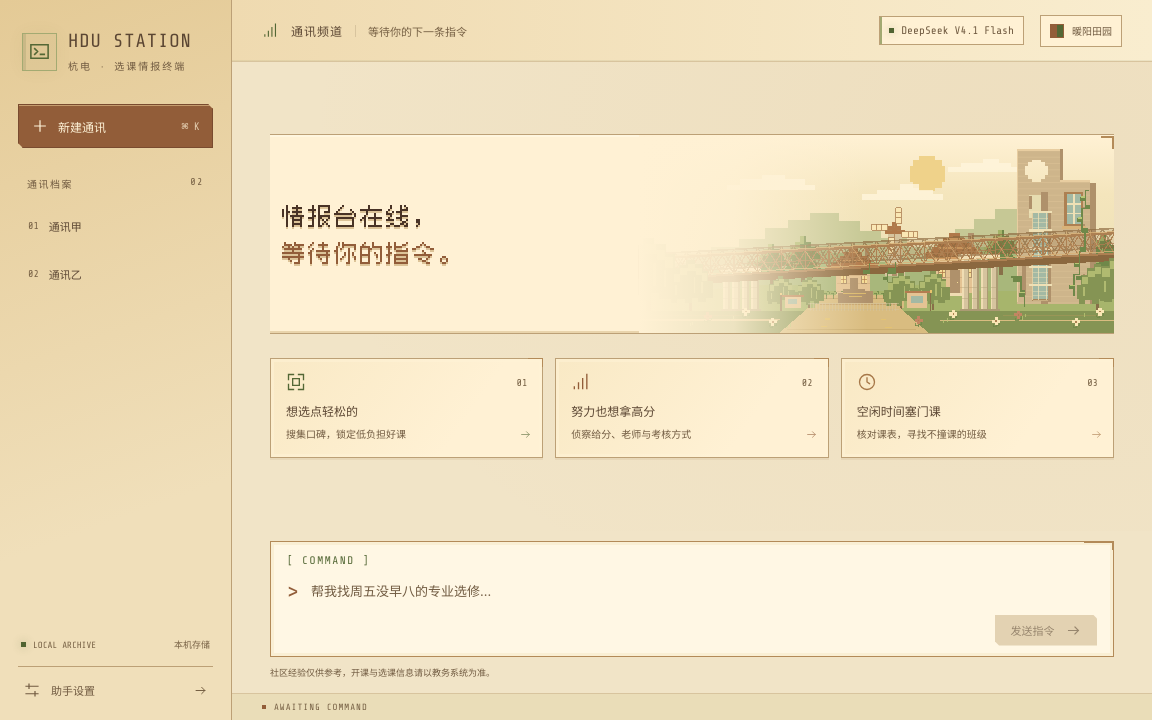
course assistant › keeps the selected transcript on a load error and cancels loading when opening a new chat
Click the button "01 通讯甲" at (116, 226), box [19,206,212,246]
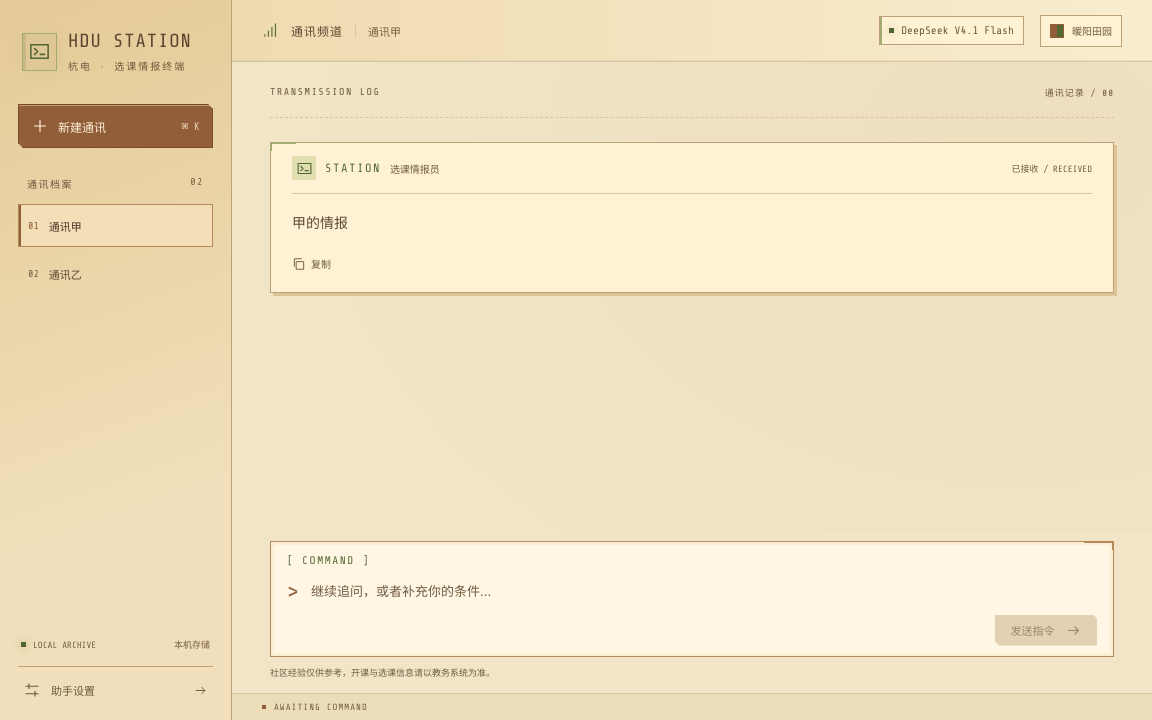
Expected: the text "甲的情报" is shown, [292,214,348,231]
Click the button "02 通讯乙" at (116, 274), box [19,254,212,294]
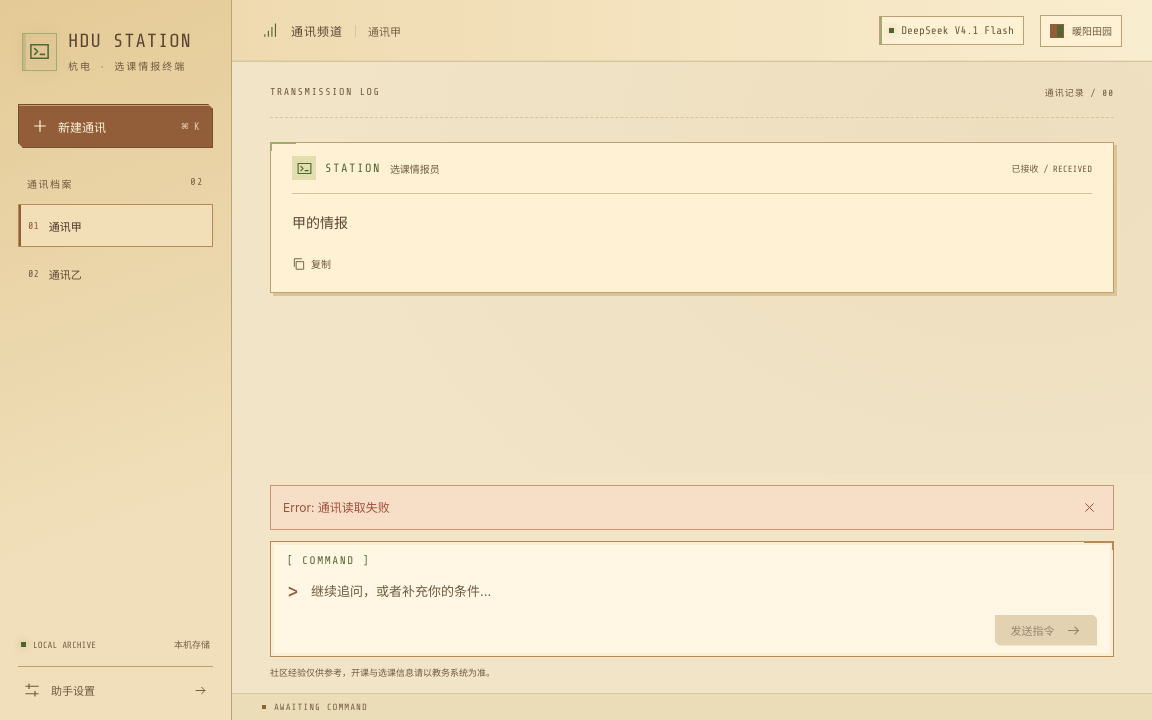
Expected: the heading "情 报 台 在 线 ， 等 待 你 的 指 令 。" is not shown
Expected: the text "甲的情报" is shown, [292,214,348,231]
Expected: the message "Error: 通讯读取失败" is shown, [270,485,1114,530]
Click the button "02 通讯乙" at (116, 274), box [19,254,212,294]
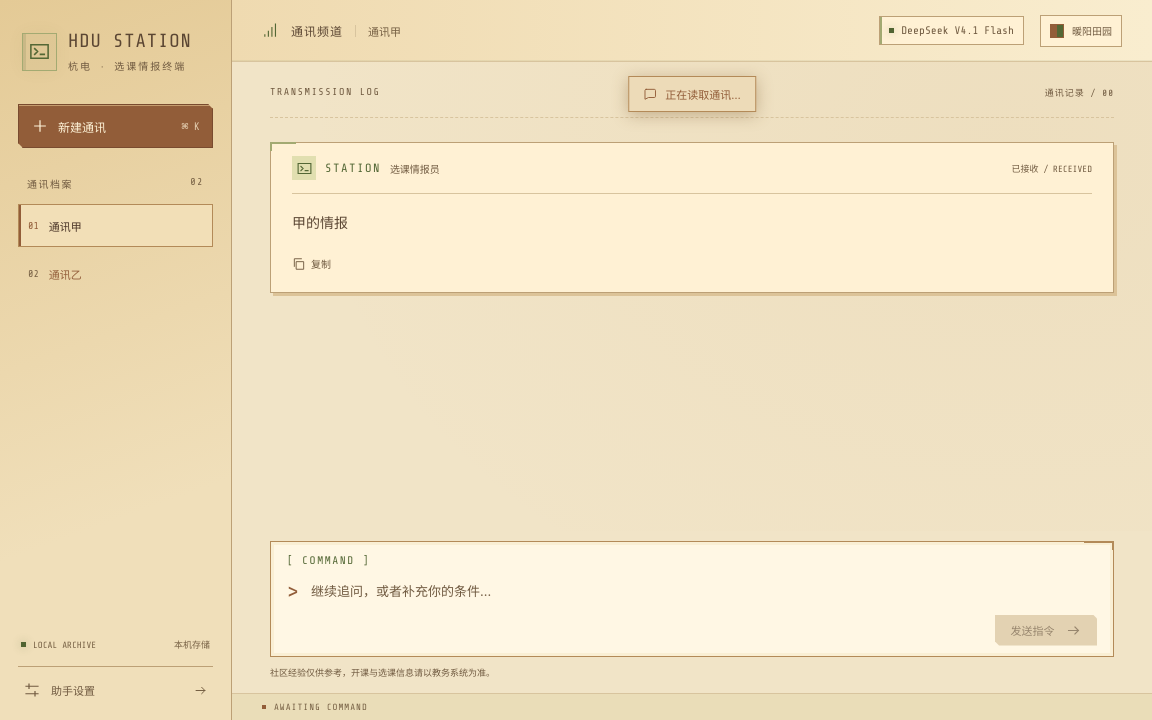
Click the button with aria-label "新对话" at (116, 126), box [18,104,213,148]
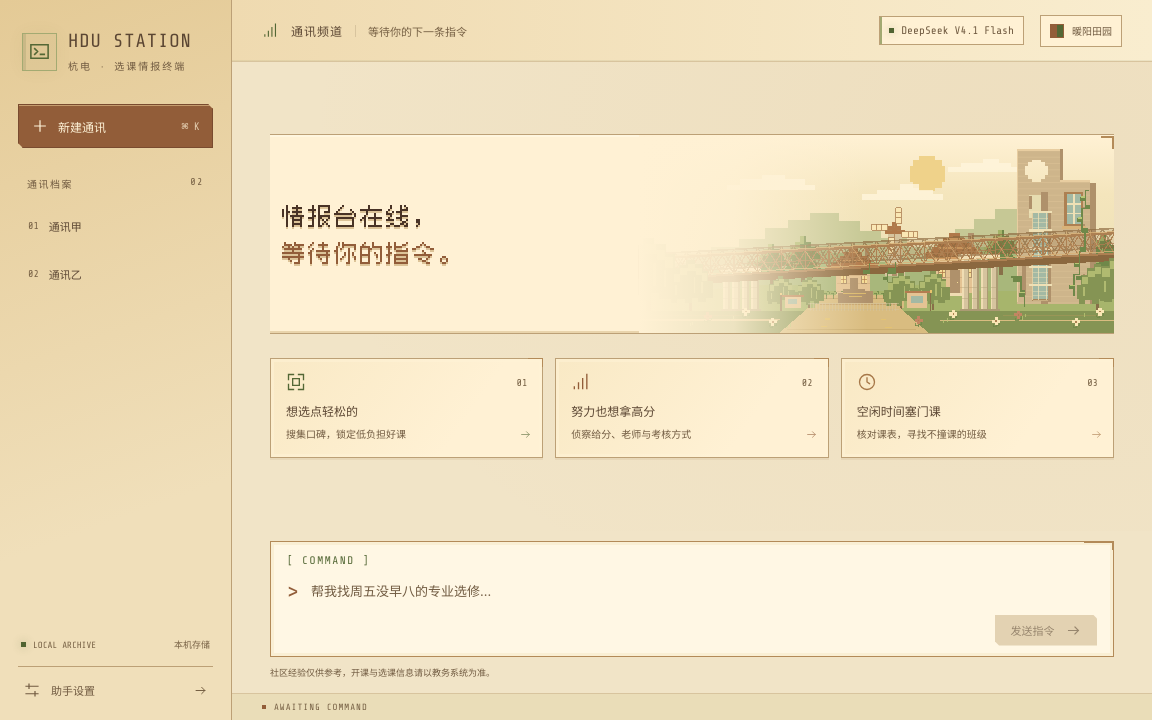
Expected: the heading named "情报台在线，等待你的指令。" is shown, [282,197,464,272]
Expected: the message "正在读取通讯…" is gone
